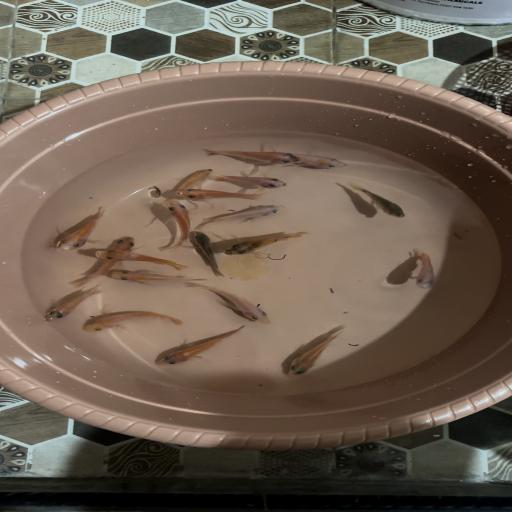nila: (150, 324, 255, 371), (279, 326, 355, 385), (183, 283, 282, 325), (65, 234, 136, 289), (65, 308, 191, 338), (48, 206, 112, 257), (37, 284, 106, 325), (224, 230, 310, 262), (200, 144, 305, 170), (342, 181, 410, 221), (184, 229, 238, 277), (201, 203, 285, 232), (92, 248, 196, 271), (403, 245, 449, 292), (155, 198, 195, 251), (106, 266, 212, 286), (279, 149, 353, 172), (173, 188, 268, 204), (167, 164, 213, 196), (212, 174, 293, 189)
